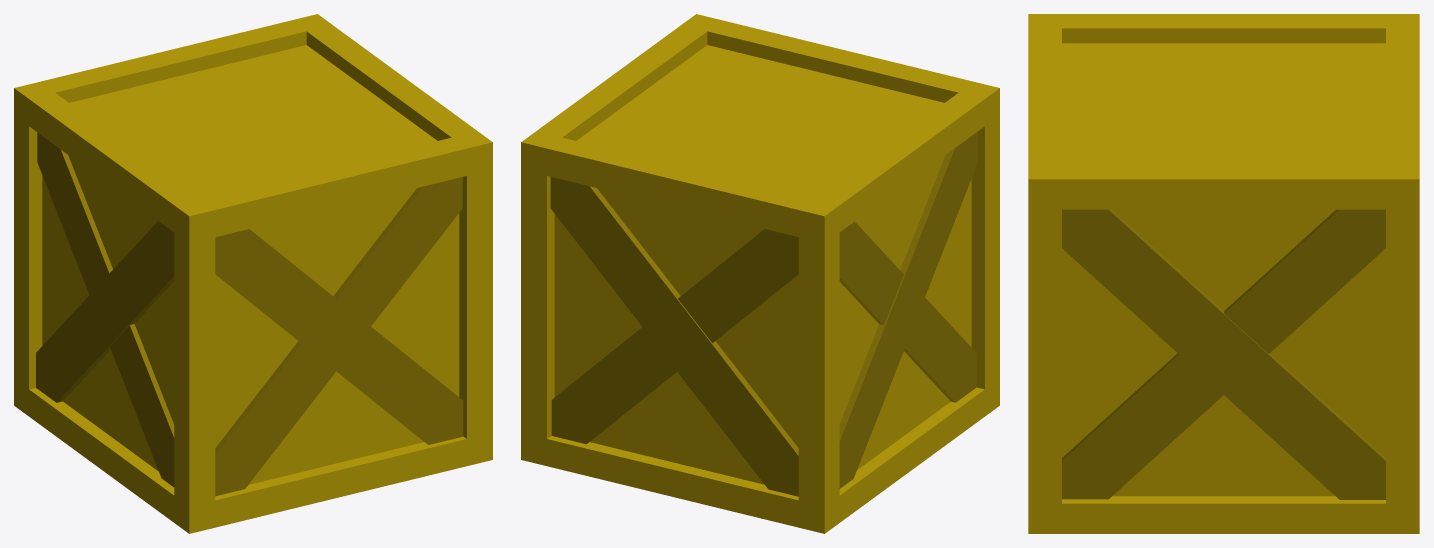
The model's file is Box-Amanda.fbx.
3 renders of one model, left to right at view 1: azimuth 30°, elevation 25°; view 2: azimuth 150°, elevation 25°; view 3: azimuth 270°, elevation 25°, orthographic. The views are drawn at different scales.
Visible parts, largest first — view 1: polySurface7, pCube10; view 2: polySurface7, pCube10; view 3: polySurface7, pCube10.
Part boxes in pixels (<box>): polySurface7: <box>14,14,492,533</box>; pCube10: <box>36,132,463,496</box>; polySurface7: <box>521,14,999,533</box>; pCube10: <box>550,131,977,496</box>; polySurface7: <box>1028,14,1419,533</box>; pCube10: <box>1062,209,1385,499</box>.
Bounding box in the file's own units: 2.33 × 2.33 × 2.33.
